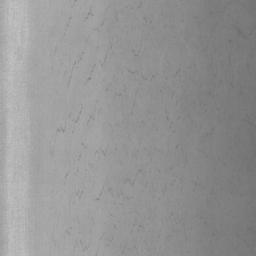Silk spot: (235, 27, 246, 38), (56, 126, 66, 134)
